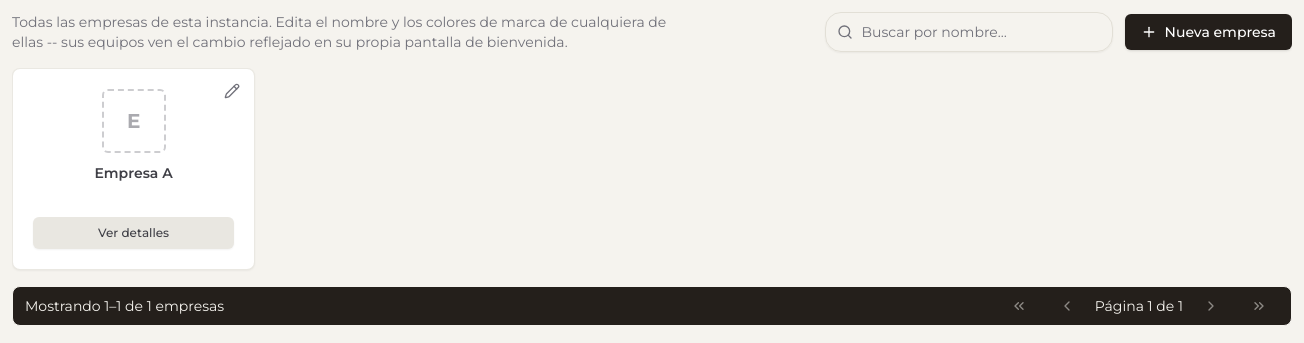
Test: GestorEmpresasPage — búsqueda por nombre (con debounce) › sin resultados con búsqueda activa, muestra un estado vacío distinto al de 'sin empresas registradas'
Check: the text "Empresa A" is shown, box [94, 164, 173, 182]
Type "nadie-coincide" into the field named "Buscar empresas".
click(968, 32); type("nadie-coincide")  # box [824, 12, 1112, 52]
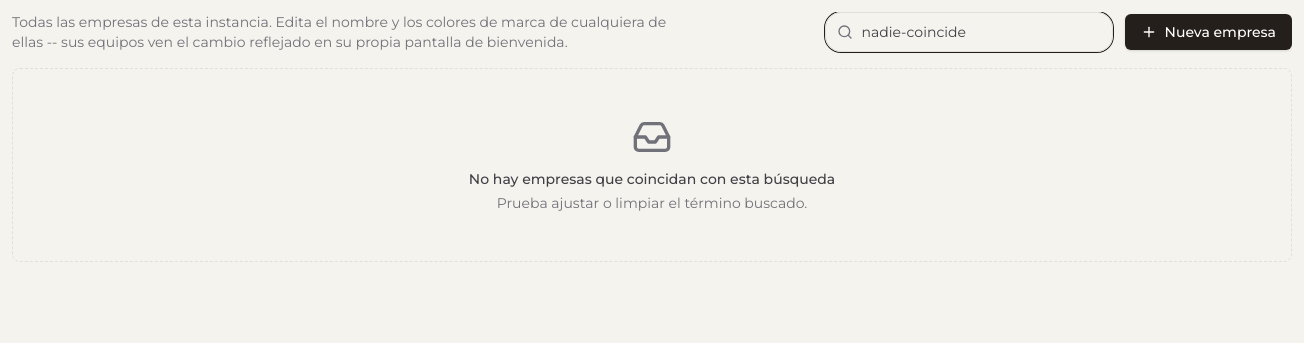
Check: the text "No hay empresas que coincidan con esta búsqueda" is shown, box [469, 169, 835, 189]
